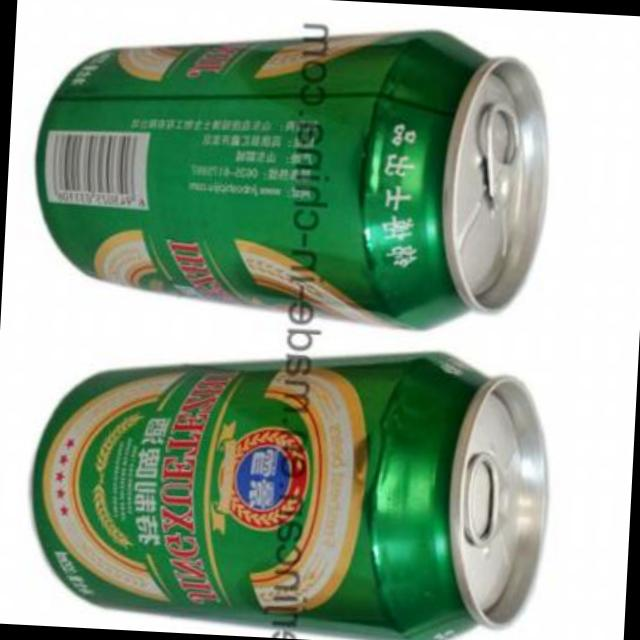metal: (40, 35, 549, 331), (37, 357, 549, 640)
